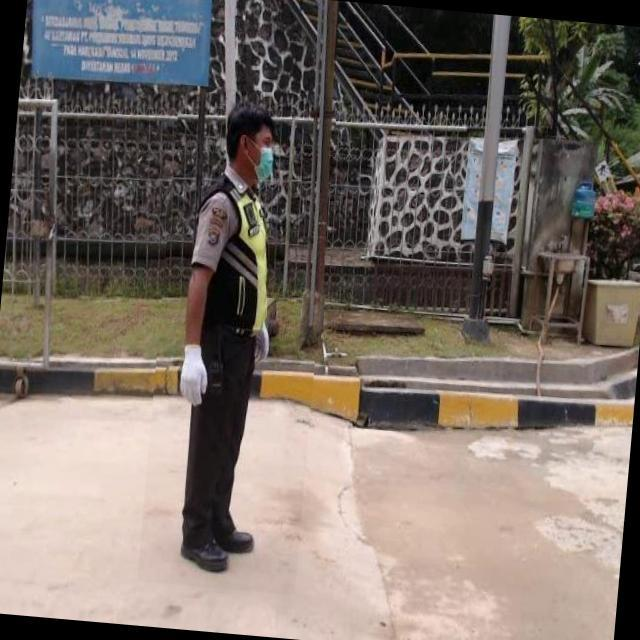Gloves: (172, 339, 219, 416)
Person: (153, 76, 298, 590)
Safety Boot: (179, 525, 232, 576), (212, 514, 256, 561)
Safety Vest: (186, 179, 278, 345)
no-helmet: (217, 100, 281, 136)
